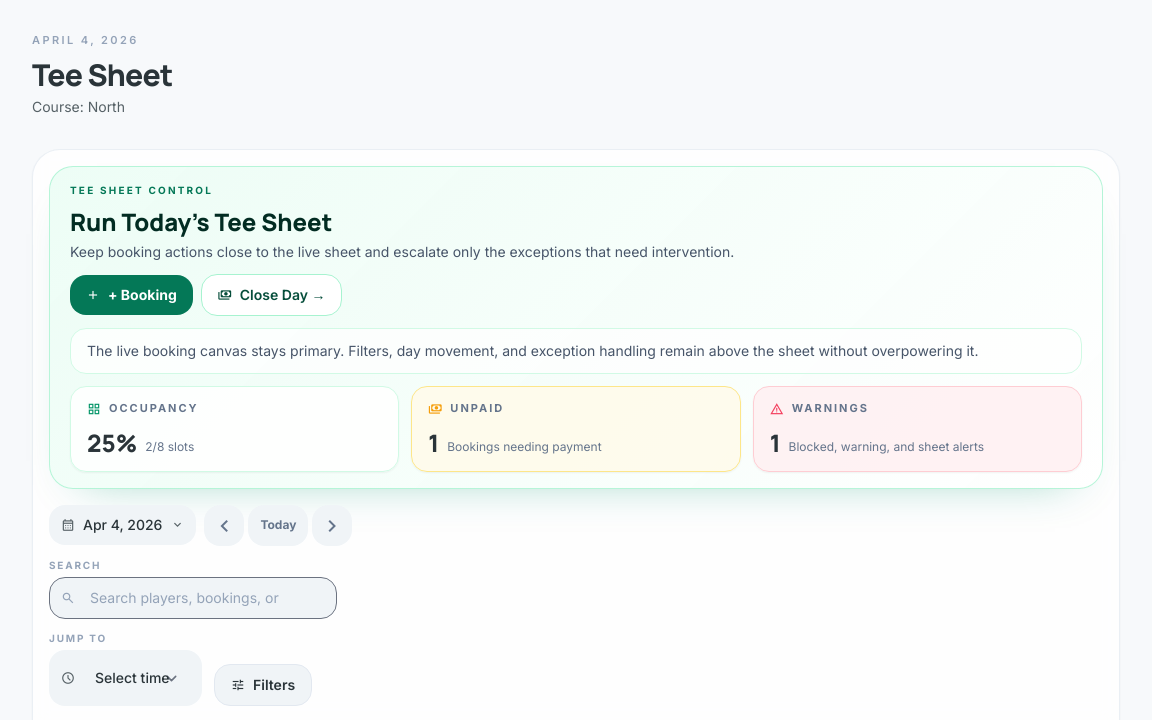
AdminGolfTeeSheetPage › date navigation › next day button advances the selected date by one day
What coordinates should you click on to do the following:
click the button named "Next day"
I would click on:
 (332, 525)
Its box is 312,504 -> 352,546.
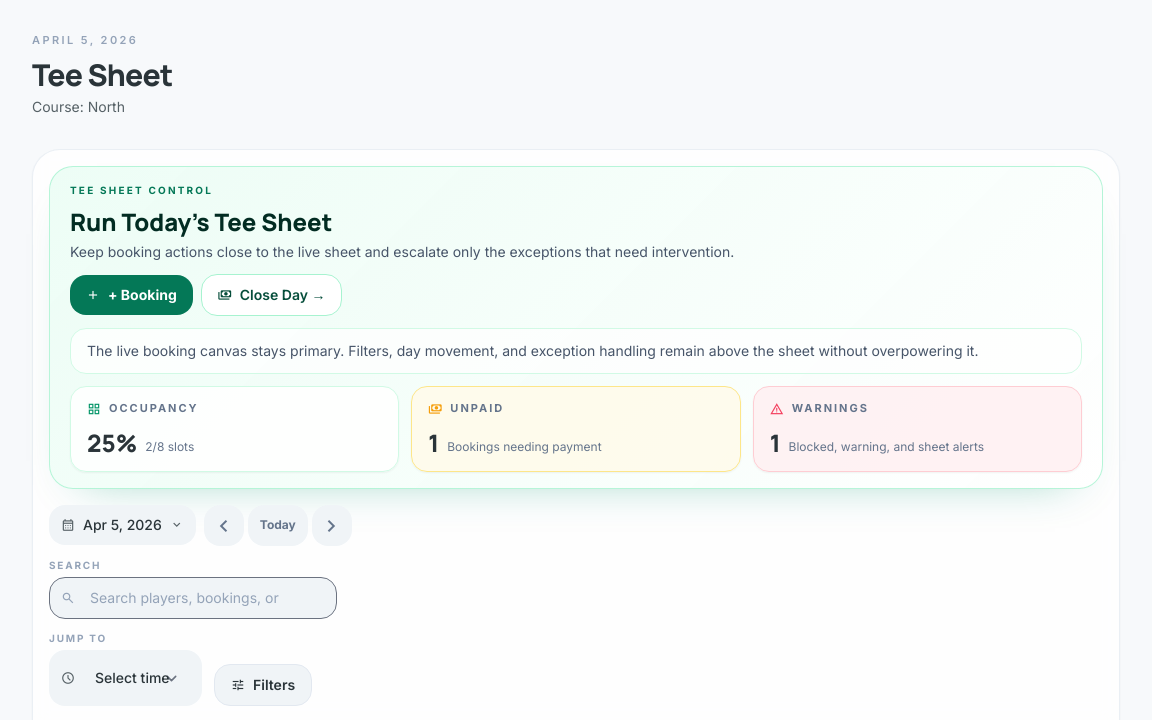
Now the text "April 5, 2026" is shown, box 32,33 -> 138,47
